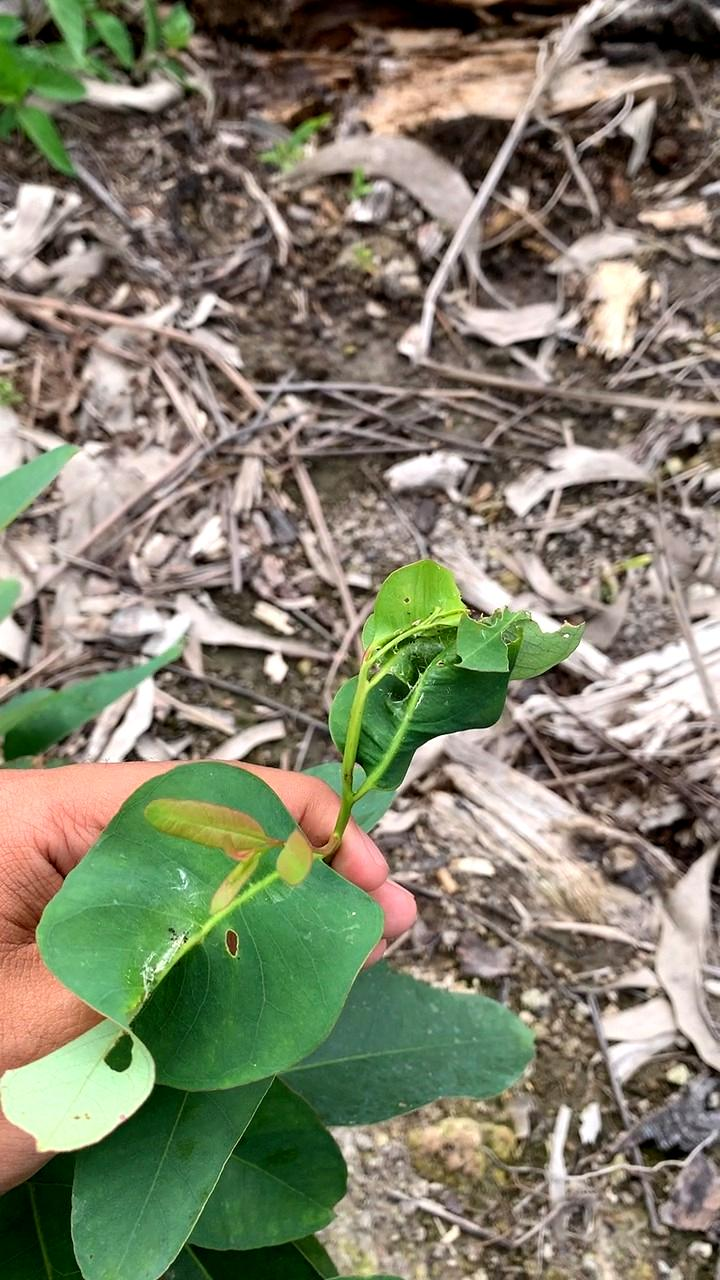Leaf Roller - Leaf: (346, 561, 559, 801)
